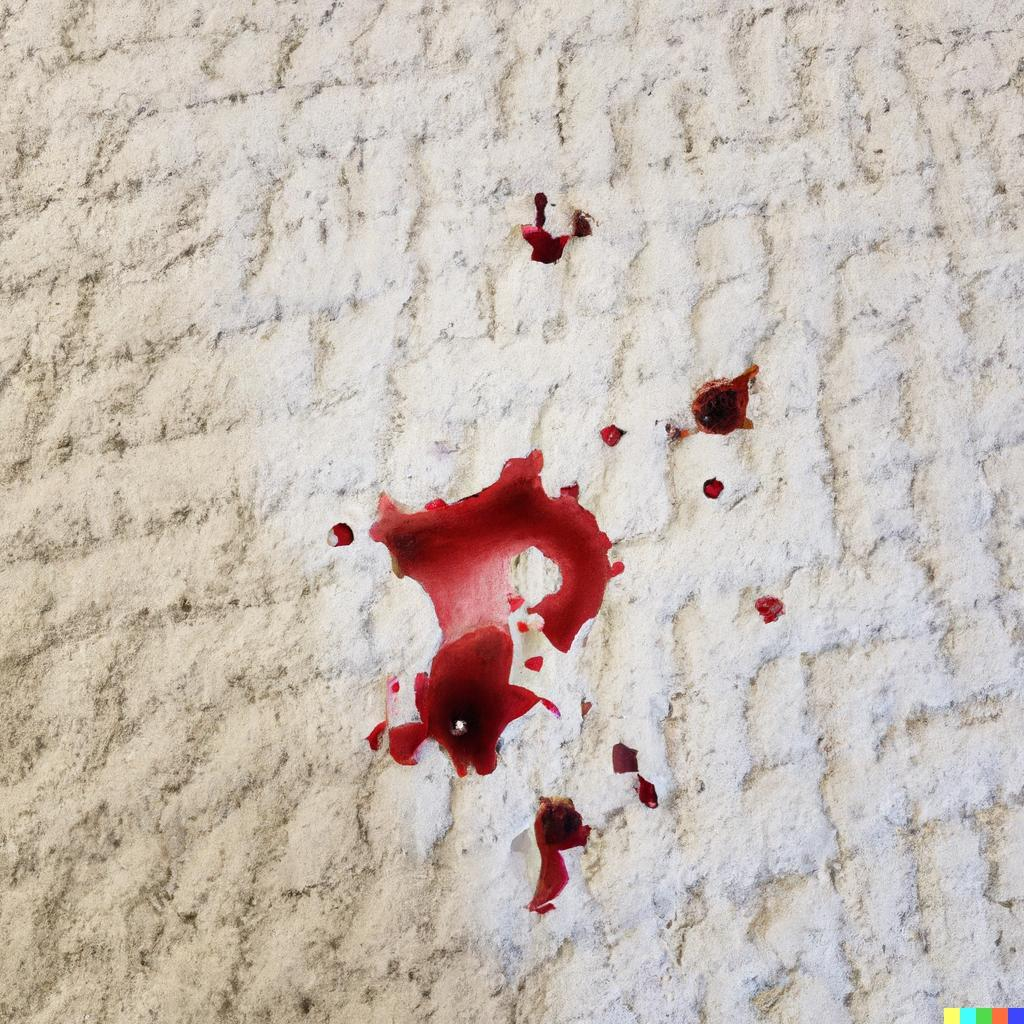Fire: (368, 447, 625, 778), (528, 795, 593, 914), (690, 363, 758, 436), (520, 192, 570, 265), (632, 772, 658, 809), (612, 741, 639, 775), (569, 208, 595, 237), (599, 424, 627, 447), (331, 522, 354, 547), (702, 476, 723, 499)
